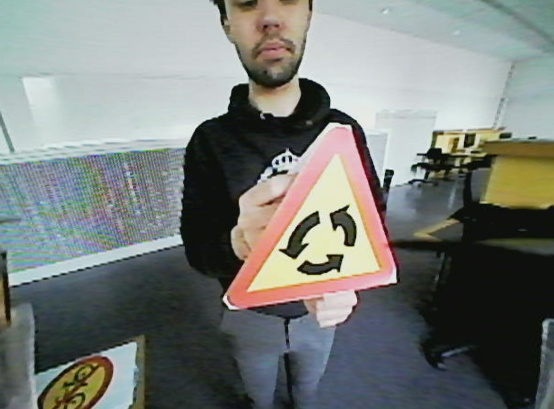roundabout_warning: (225, 119, 402, 312)
